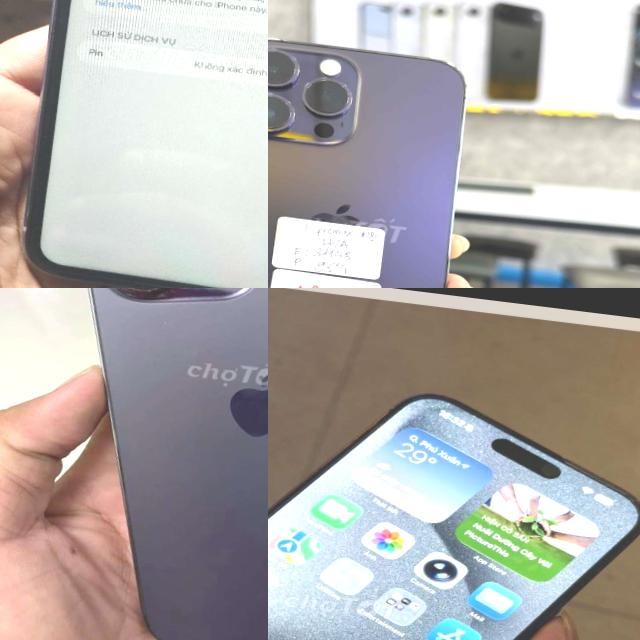gen_11: (11, 0, 268, 288)
gen_14: (12, 288, 268, 640), (268, 25, 498, 288)
gen_15: (268, 329, 640, 640)
